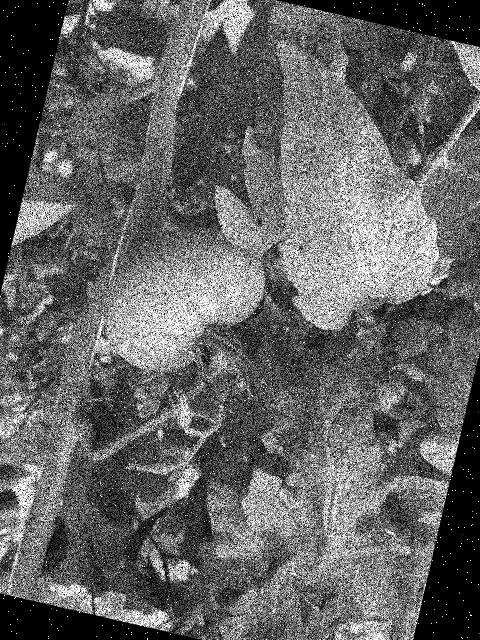b_green: (89, 207, 274, 391)
